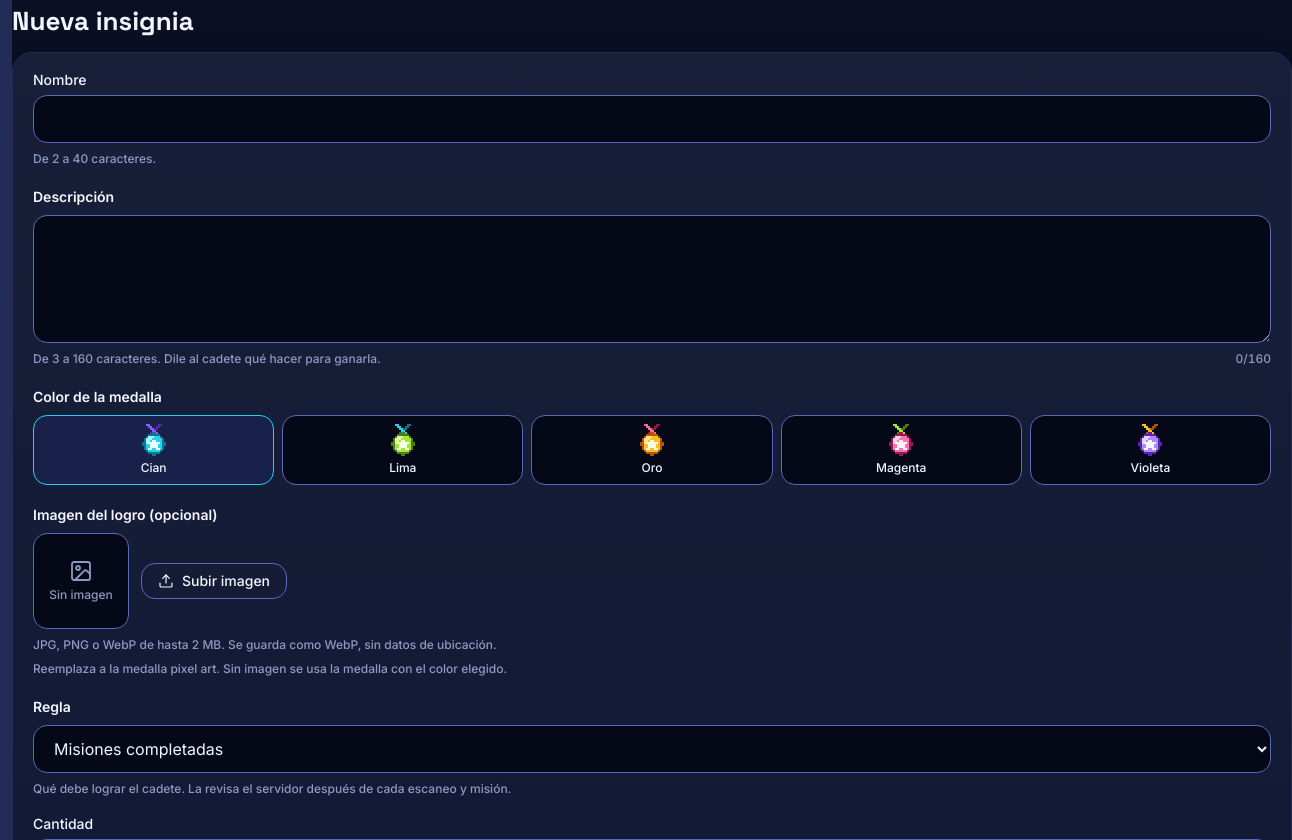
Test: BadgeForm › offers the levels from 2 by their rank name, and starts each rule type from a sensible value
The width and height of the screenshot is (1292, 840).
Select "Nivel alcanzado" in the dropdown labelled "Regla" at (652, 749), box [33,725,1271,773]
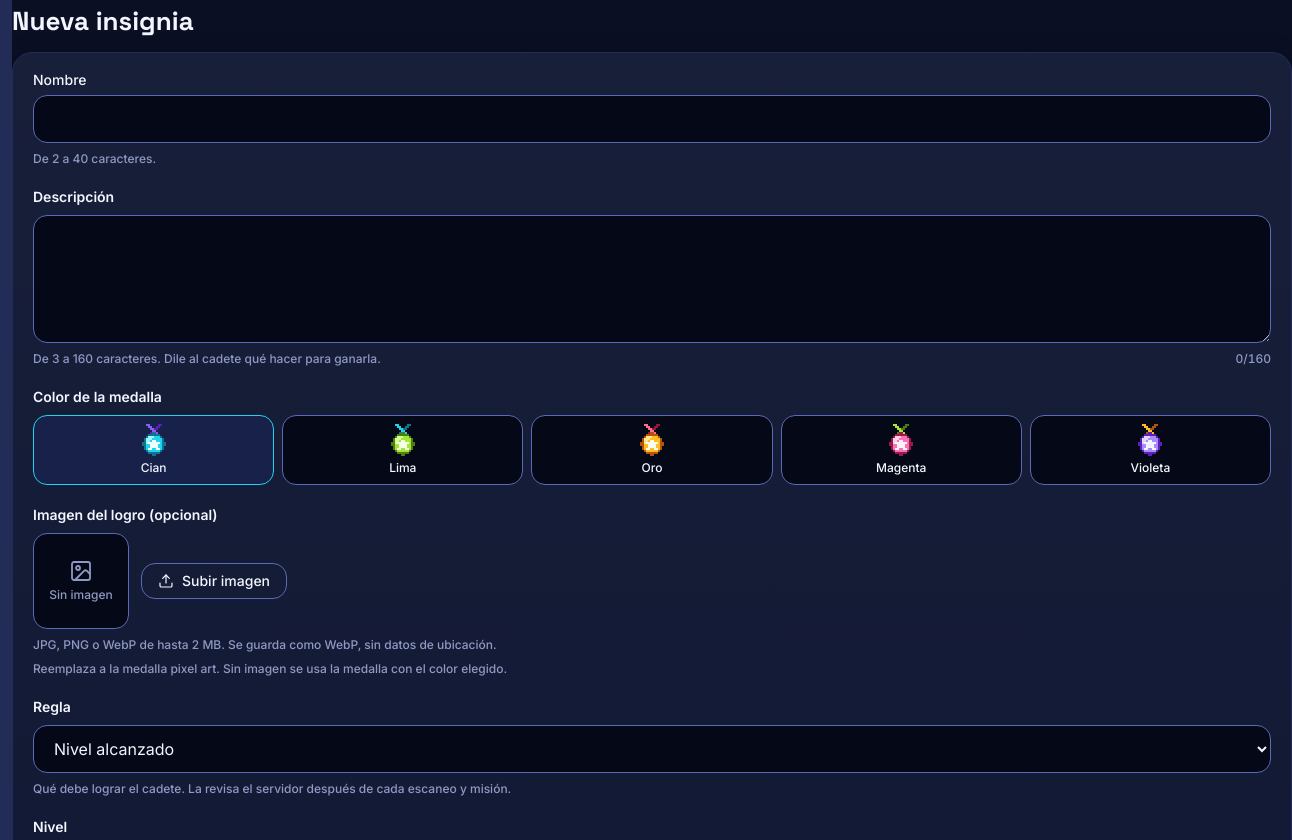
Select "Todas las misiones de una zona" in the dropdown labelled "Regla" at (652, 749), box [33,725,1271,773]
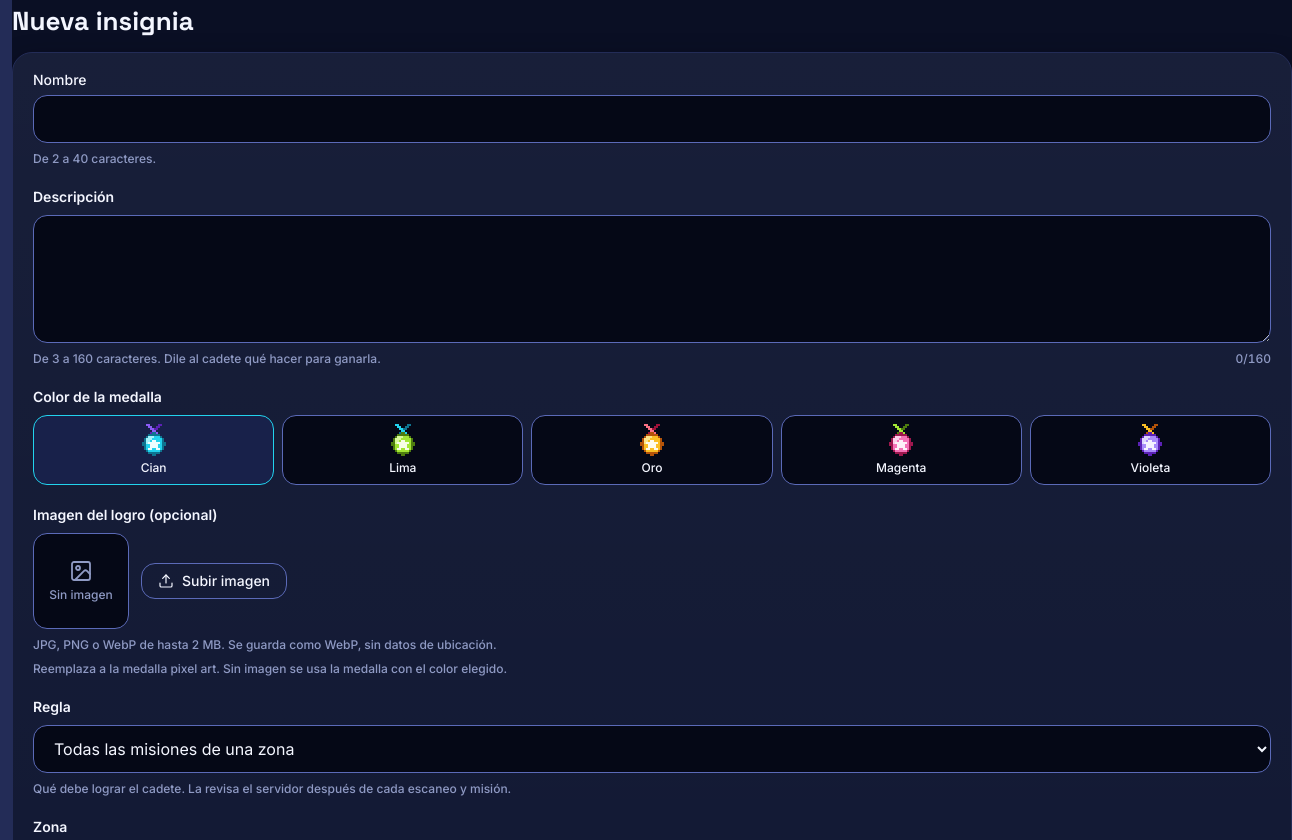
Select "Una misión específica" in the dropdown labelled "Regla" at (652, 749), box [33,725,1271,773]
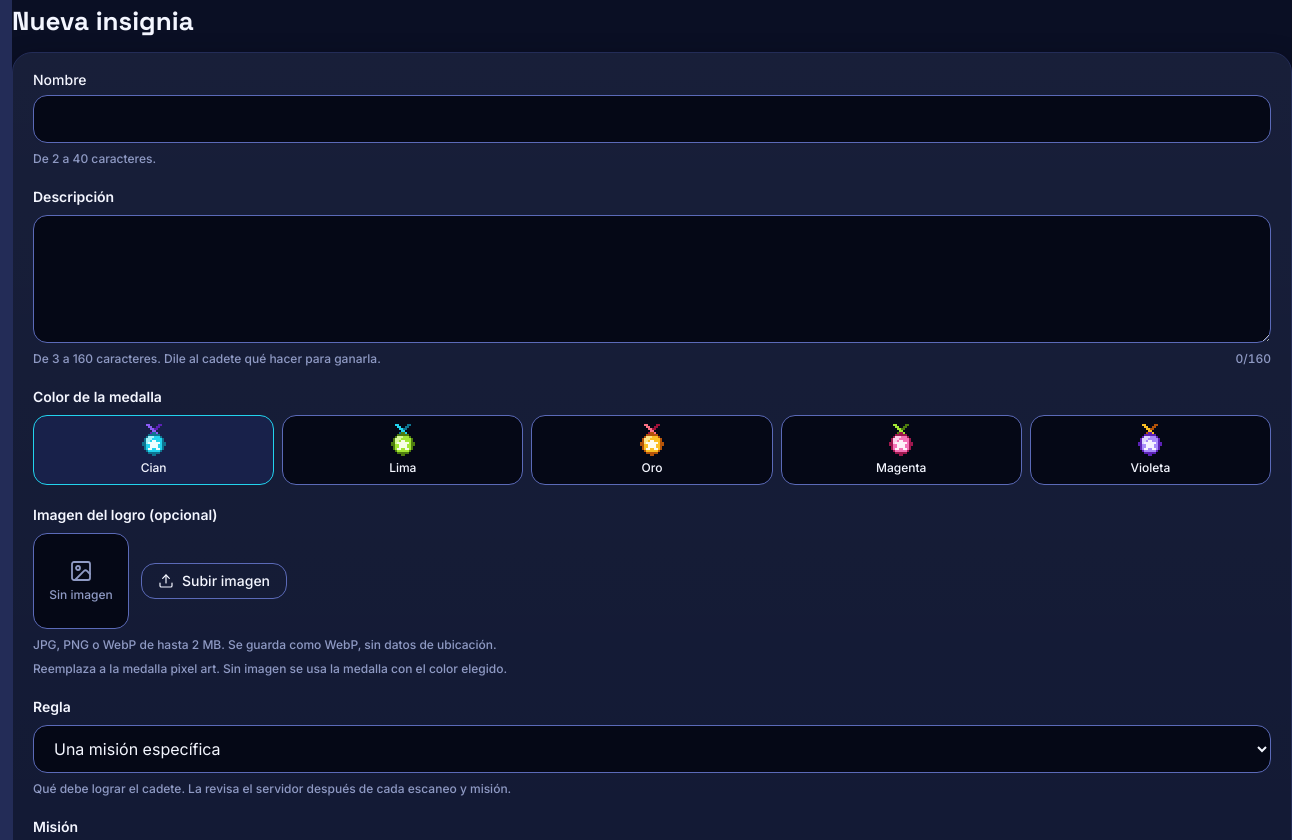
Select "Misiones completadas" in the dropdown labelled "Regla" at (652, 749), box [33,725,1271,773]
(page scrolled)
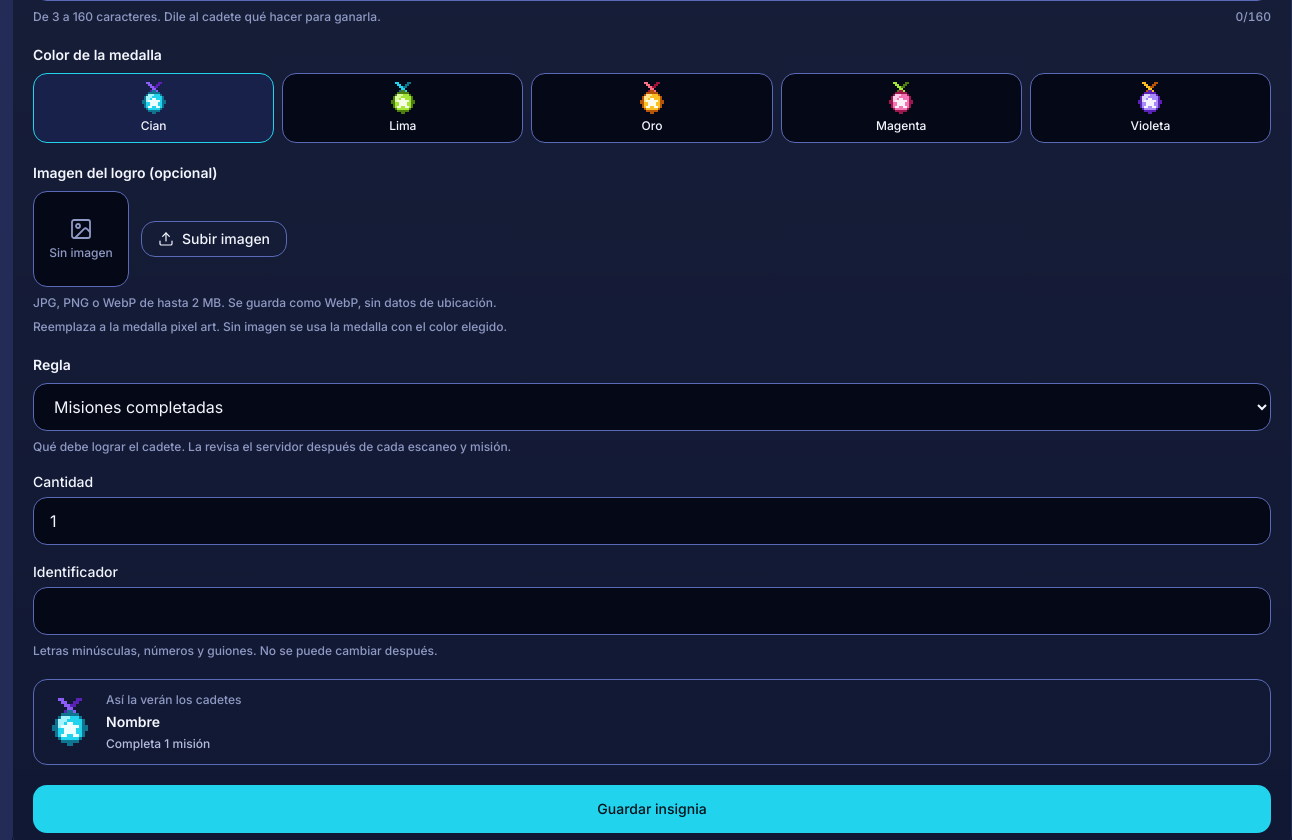
Expected: the field labelled "Cantidad" holds "1", [33,497,1271,545]
